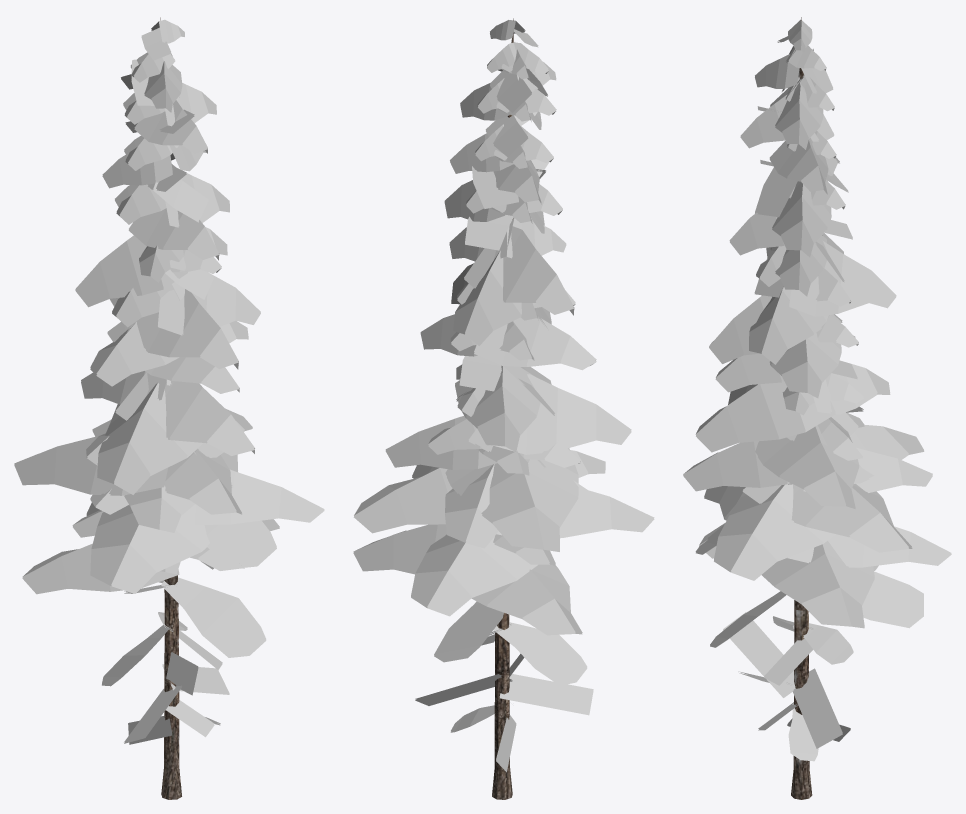
The model's file is Pine_001.fbx.
3 renders of one model, left to right at view 1: azimuth 30°, elevation 25°; view 2: azimuth 150°, elevation 25°; view 3: azimuth 270°, elevation 25°, orthographic.
Parts seen in each view (by area): view 1: Tree_Fir_Leaves1, Tree_Fir_Trunk1; view 2: Tree_Fir_Leaves1, Tree_Fir_Trunk1; view 3: Tree_Fir_Leaves1, Tree_Fir_Trunk1.
Part boxes in pixels (x1,y1,x2,y2): Tree_Fir_Leaves1: (14,19,324,744); Tree_Fir_Trunk1: (160,17,181,799); Tree_Fir_Leaves1: (353,20,654,772); Tree_Fir_Trunk1: (492,18,513,799); Tree_Fir_Leaves1: (683,19,951,761); Tree_Fir_Trunk1: (791,17,812,799).
Size of the model in its own units: 955 by 3043 by 955.
